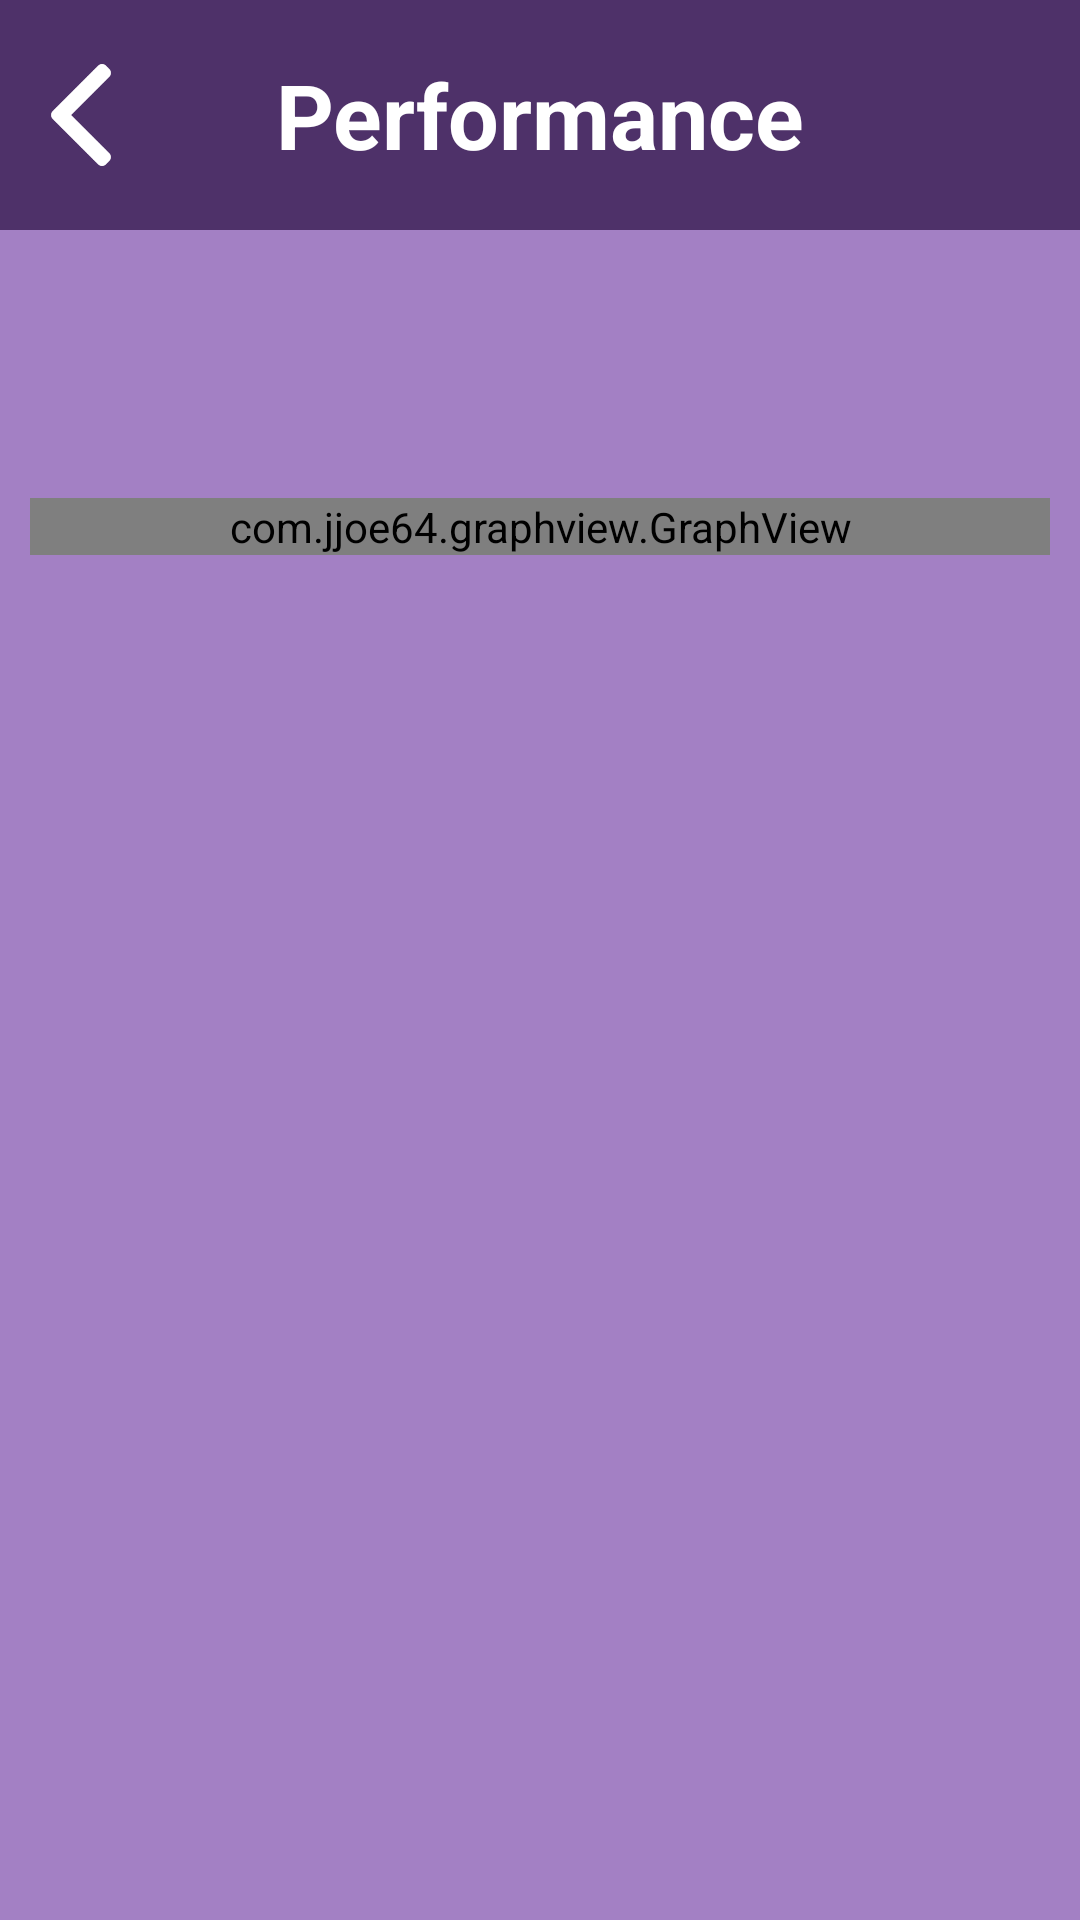

Icons on this 1080*1920 Android screen, each with the point to tap as (x,y):
activity back arrow: (81,115)
